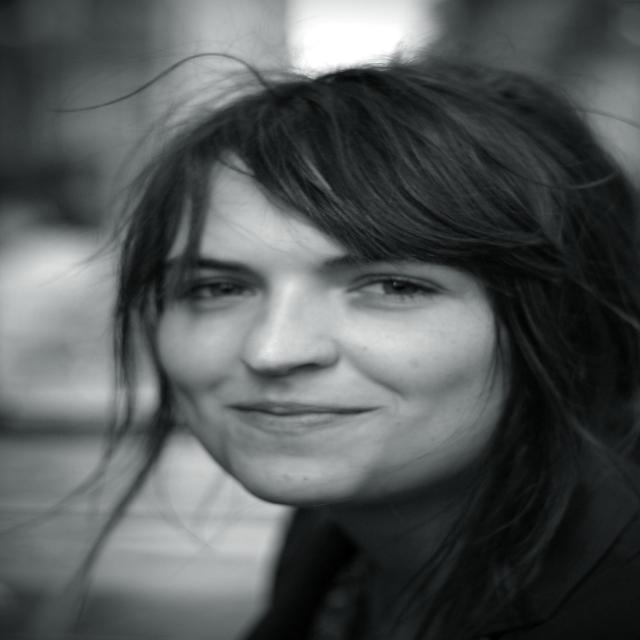no-glass: (178, 272, 432, 308)
